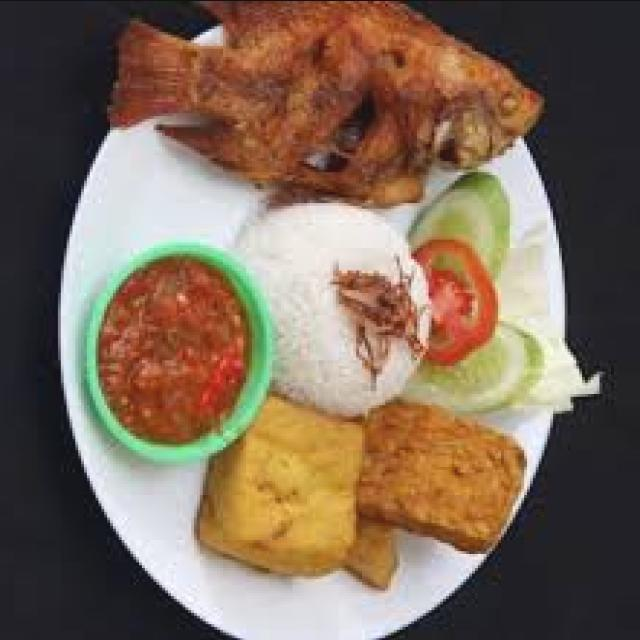ikan goreng: (104, 0, 544, 208)
nasi: (229, 205, 434, 418)
tahu goreng: (197, 393, 365, 578)
tempe goreng: (353, 399, 530, 550)
